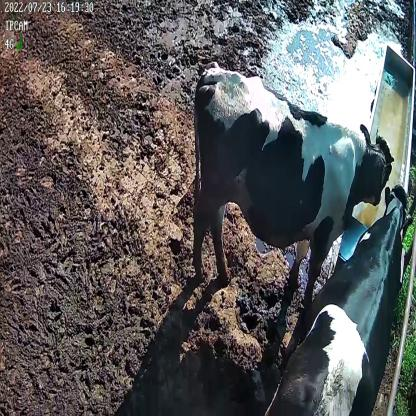cow: (192, 63, 394, 302), (269, 183, 414, 416)
